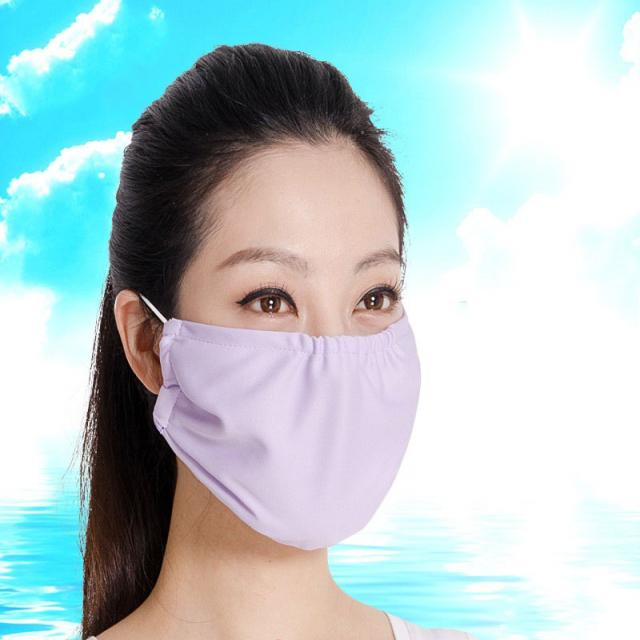mask: (166, 144, 415, 548)
